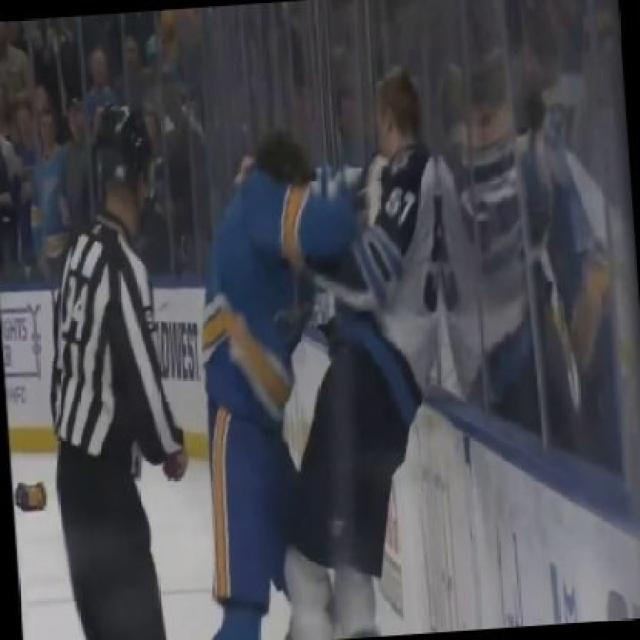fight: (201, 67, 443, 640), (49, 103, 194, 640)
